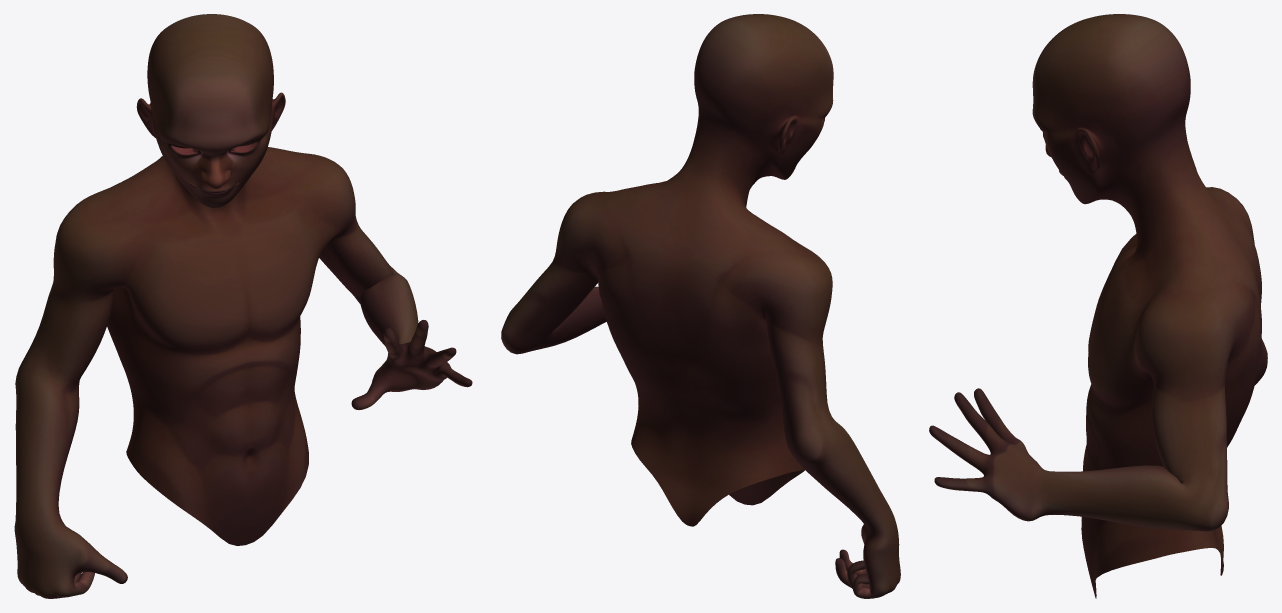
Rendered from mdChainzoku.glb.
3 views of the same model, side by side, from view 1: azimuth 30°, elevation 25°; view 2: azimuth 150°, elevation 25°; view 3: azimuth 270°, elevation 25° (orthographic). The views are drawn at different scales.
Visible parts, largest first — view 1: Boso_M_Palm_Sadboy; view 2: Boso_M_Palm_Sadboy; view 3: Boso_M_Palm_Sadboy.
Part boxes in pixels (<box>): Boso_M_Palm_Sadboy: <box>14,14,472,598</box>; Boso_M_Palm_Sadboy: <box>501,14,900,598</box>; Boso_M_Palm_Sadboy: <box>929,14,1267,598</box>.
Size of the model in its own units: 18801 by 25342 by 13004.
Materials: 1 (1 with a texture image).
